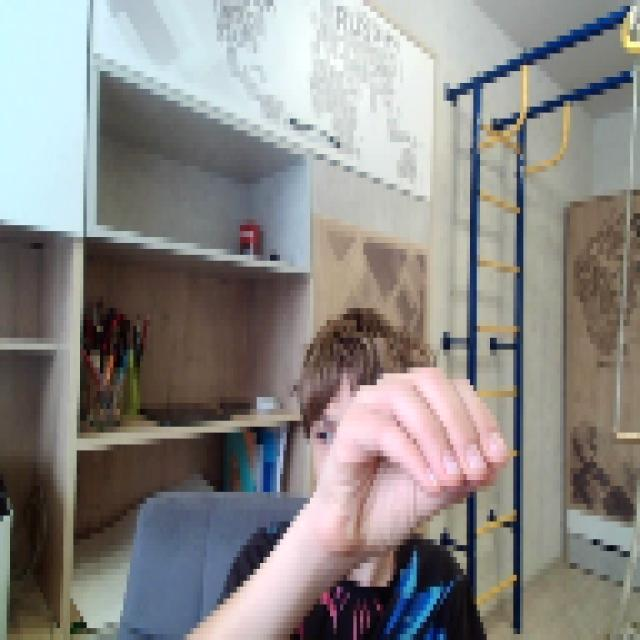left_click: (310, 356, 507, 551)
